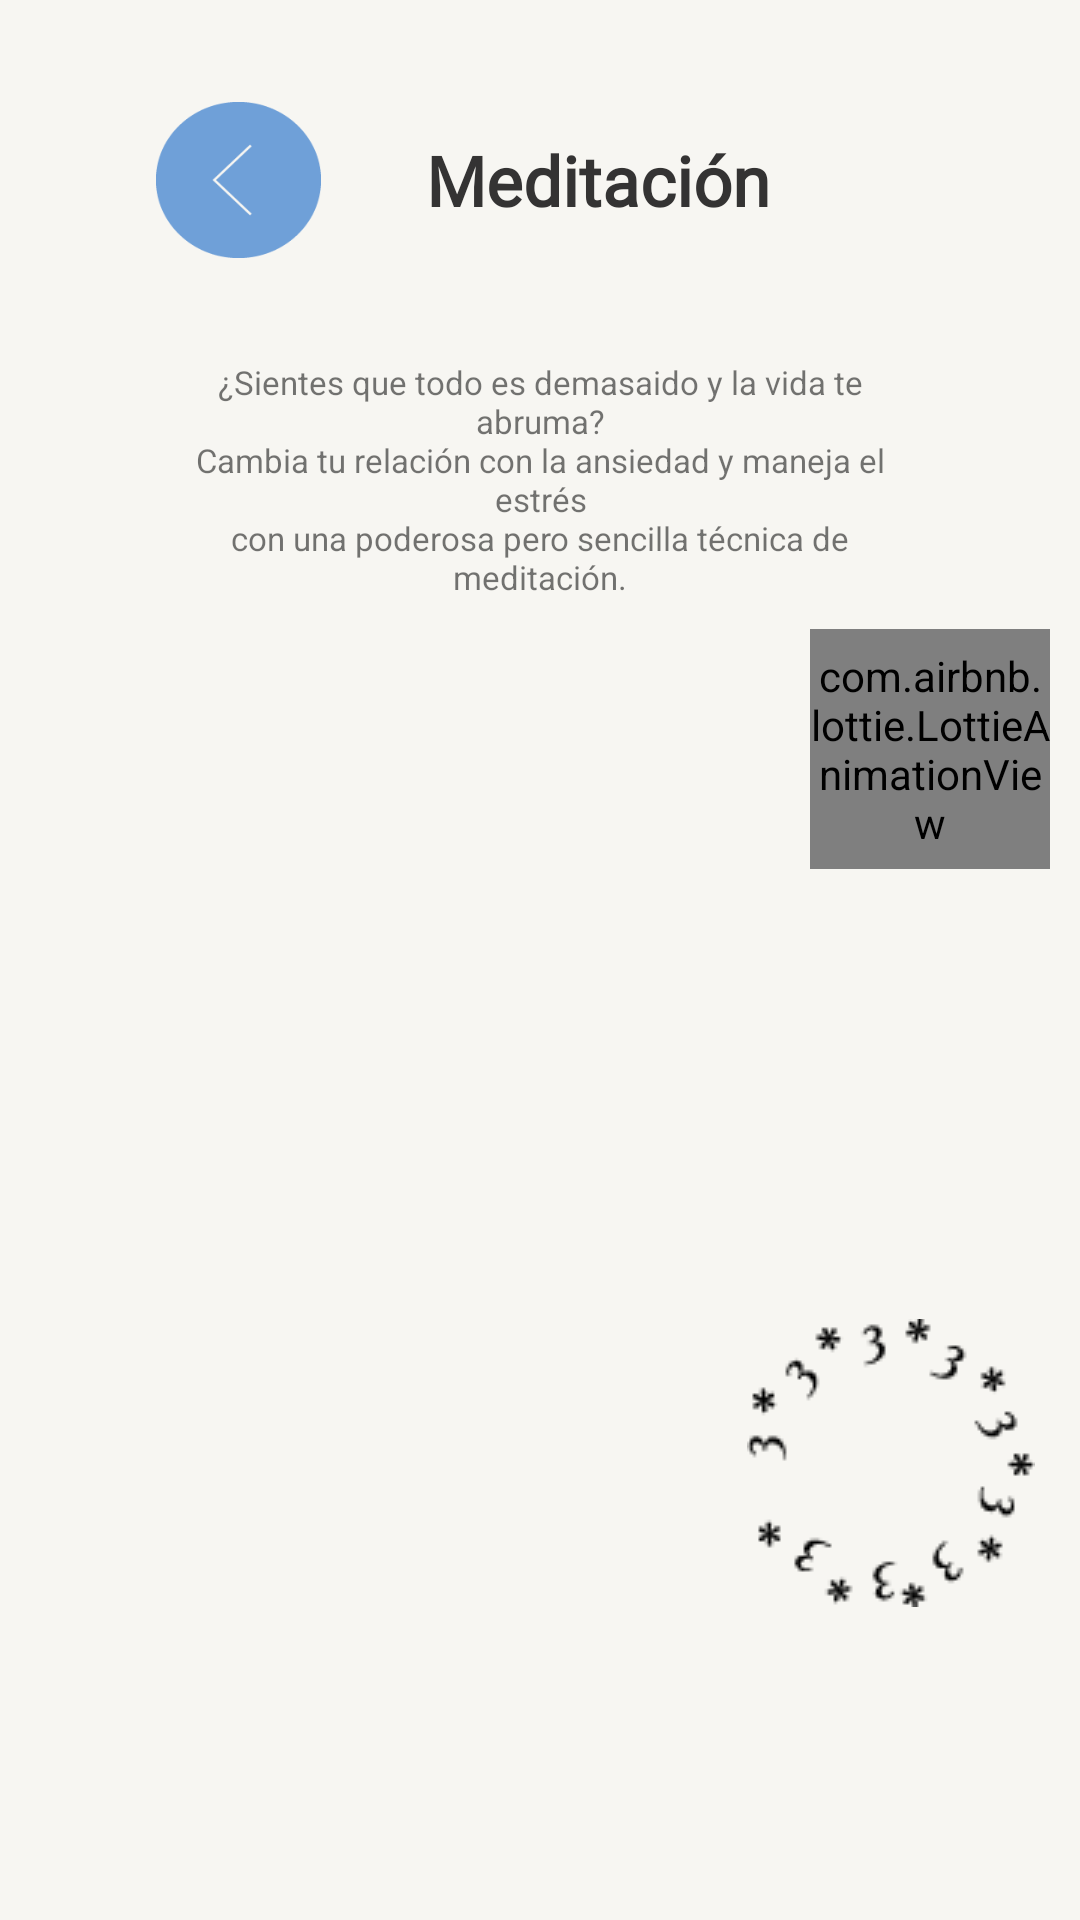

Icons on this 1080px x 1920px Android screen, each with its box as (x1, y1, x2, y2):
regresar xxxdpi: (156, 102, 321, 258)
